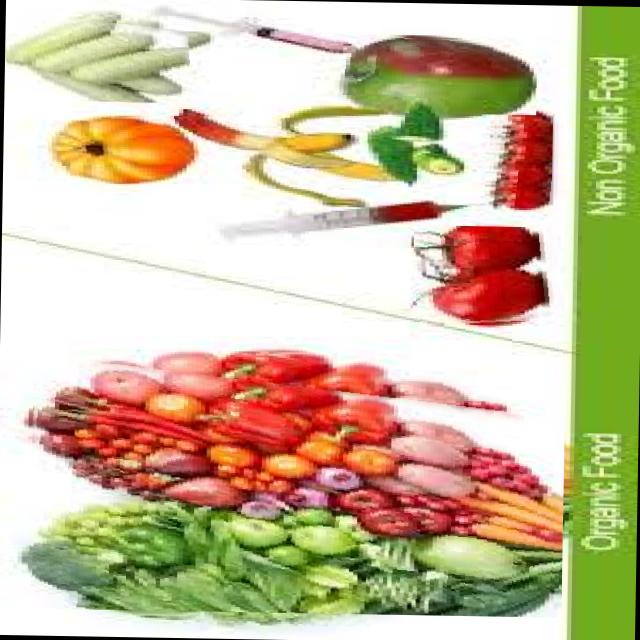Organic: (21, 353, 565, 616), (3, 10, 195, 101), (329, 33, 537, 114), (412, 224, 564, 328), (162, 114, 378, 168), (47, 114, 180, 184), (484, 107, 554, 215)
